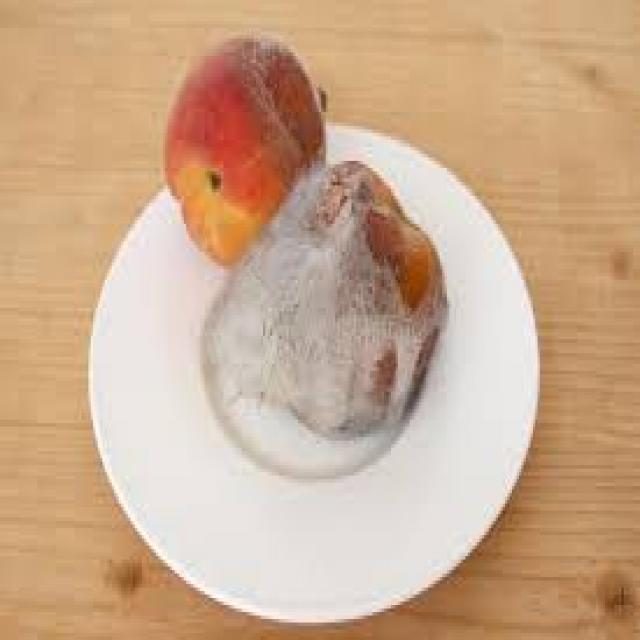organic waste: (212, 158, 444, 438), (163, 28, 326, 259)
